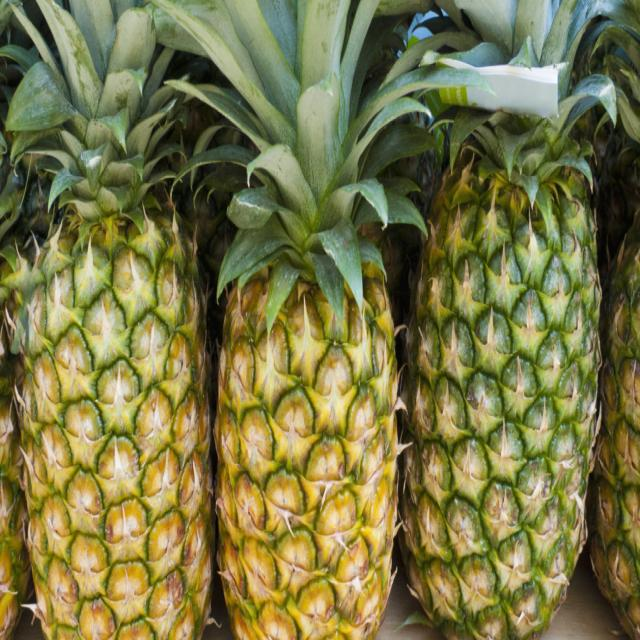Pineapple: (151, 0, 488, 638), (404, 0, 616, 638), (6, 0, 214, 638), (590, 210, 640, 636)
